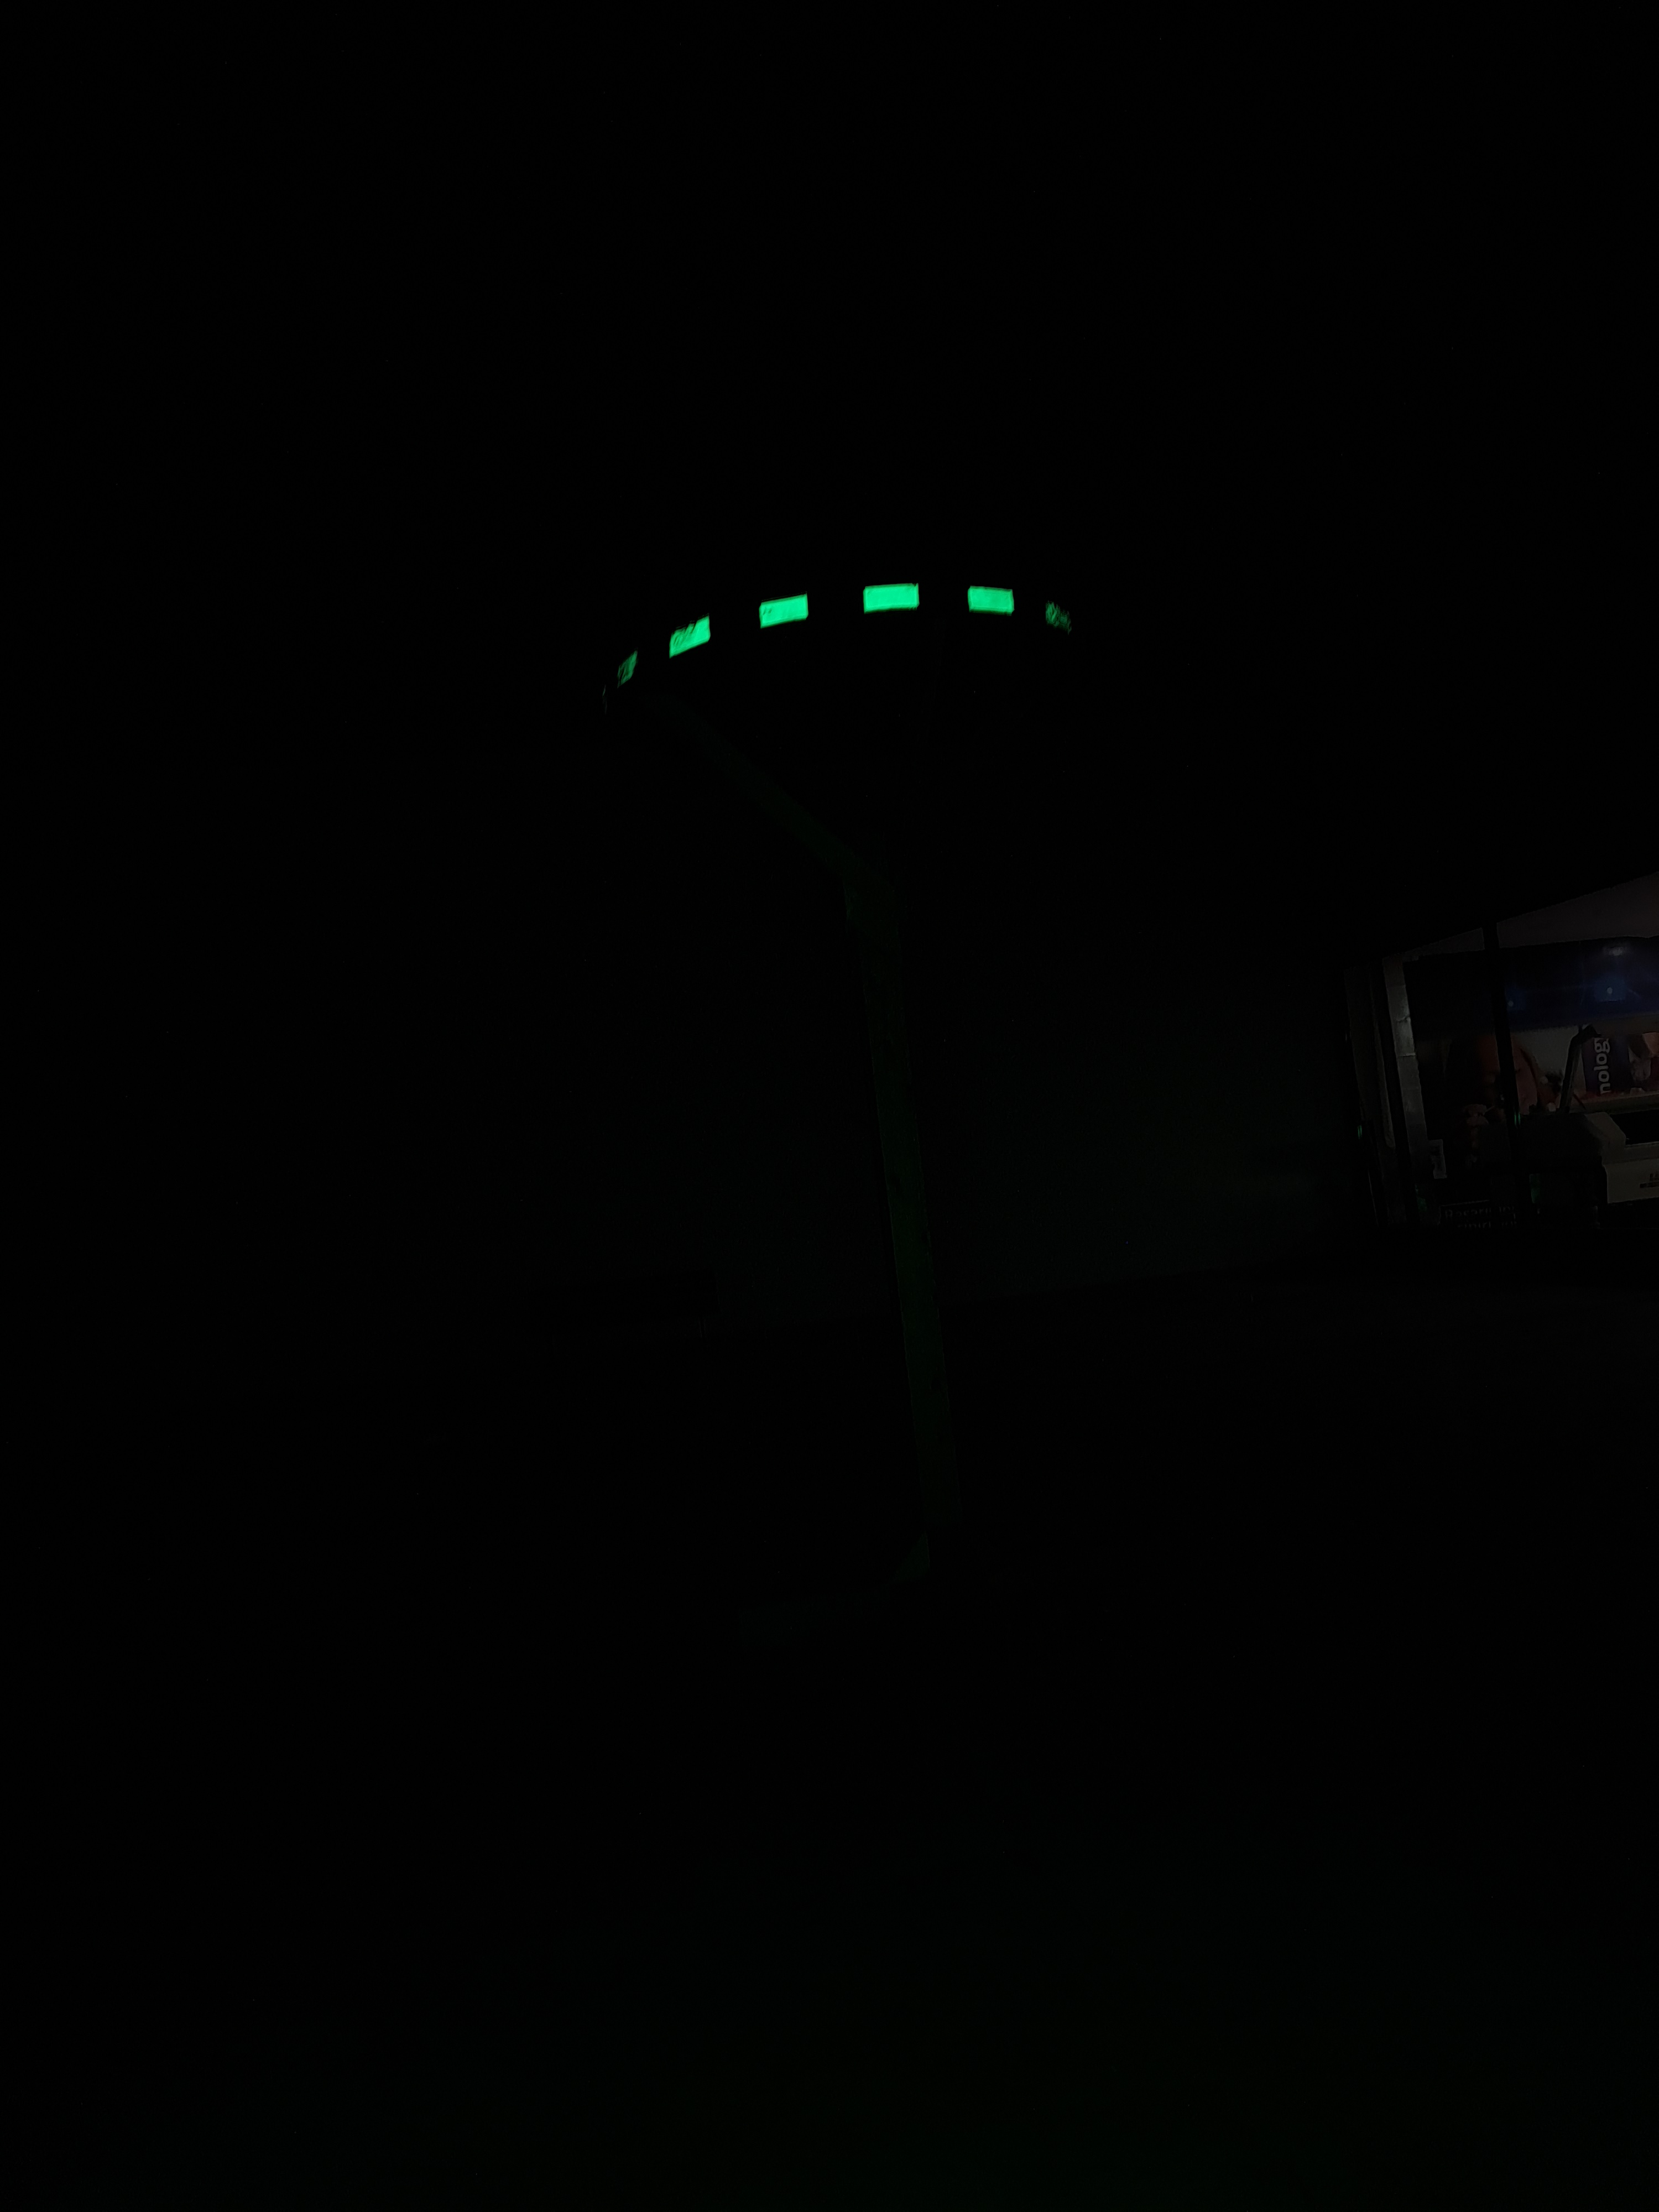hoop: (599, 535, 1131, 712)
